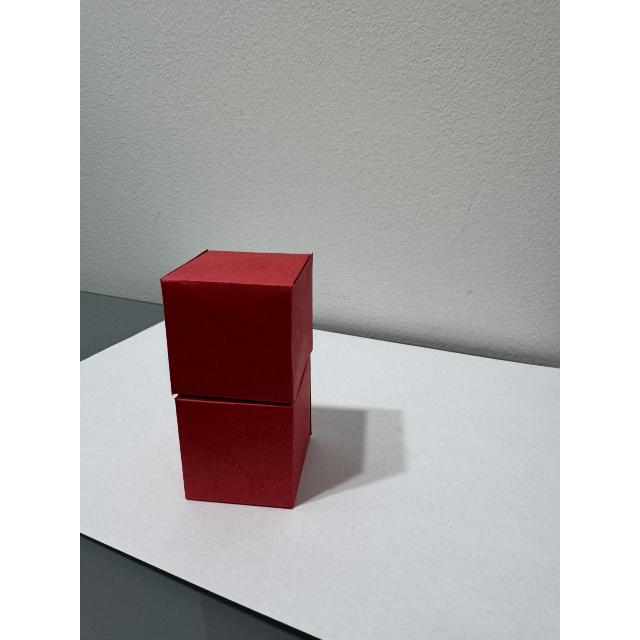red_cube: (145, 241, 363, 525)
